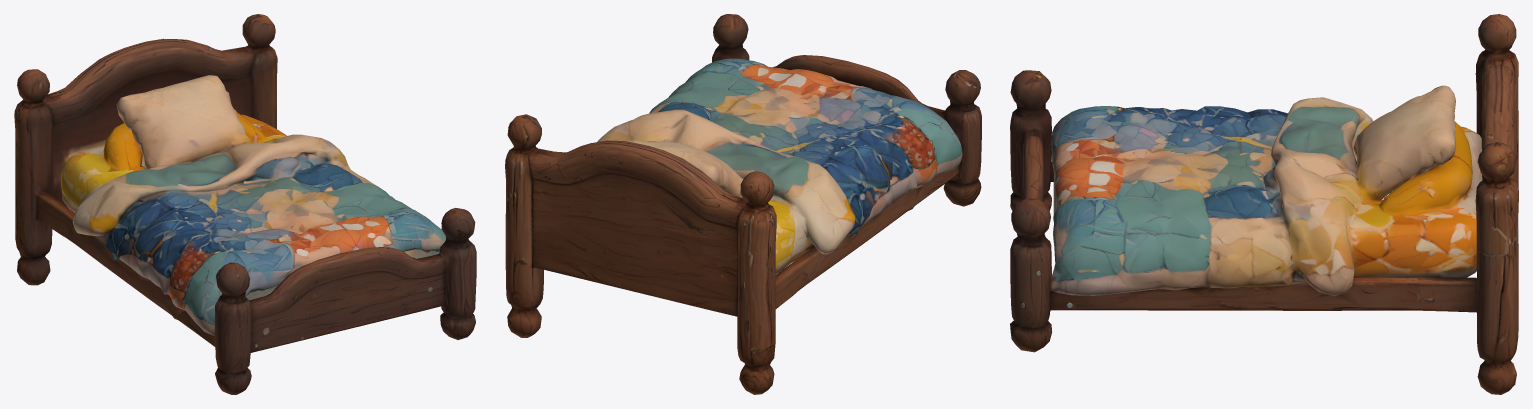
The model's file is bed.glb.
3 renders of one model, left to right at view 1: azimuth 30°, elevation 25°; view 2: azimuth 150°, elevation 25°; view 3: azimuth 270°, elevation 25°, orthographic. The views are drawn at different scales.
Parts seen in each view (by area): view 1: tripo_node_6bbf016a-20b6-405d-9190-24f4b40480d5; view 2: tripo_node_6bbf016a-20b6-405d-9190-24f4b40480d5; view 3: tripo_node_6bbf016a-20b6-405d-9190-24f4b40480d5.
Boxes of the visible parts, x1,y1,x2,y2 form: tripo_node_6bbf016a-20b6-405d-9190-24f4b40480d5: (14, 14, 476, 394); tripo_node_6bbf016a-20b6-405d-9190-24f4b40480d5: (505, 14, 981, 394); tripo_node_6bbf016a-20b6-405d-9190-24f4b40480d5: (1010, 14, 1518, 394).
Size of the model in its own units: 0.694 by 0.54 by 0.9994.
1 material, 1 textured.
